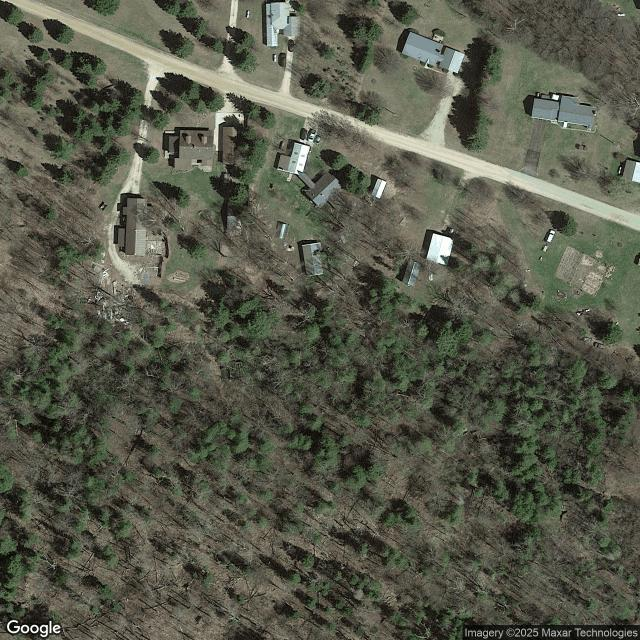Propane: (617, 13, 626, 17), (246, 10, 250, 18), (273, 54, 277, 62), (618, 166, 622, 174)
